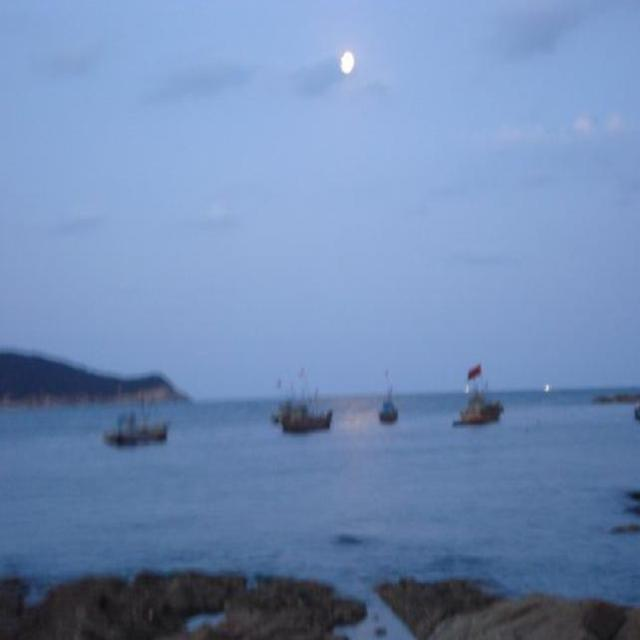fishing boat: (262, 379, 340, 439), (452, 367, 509, 433), (102, 398, 172, 450), (377, 368, 408, 425), (621, 382, 640, 438)
